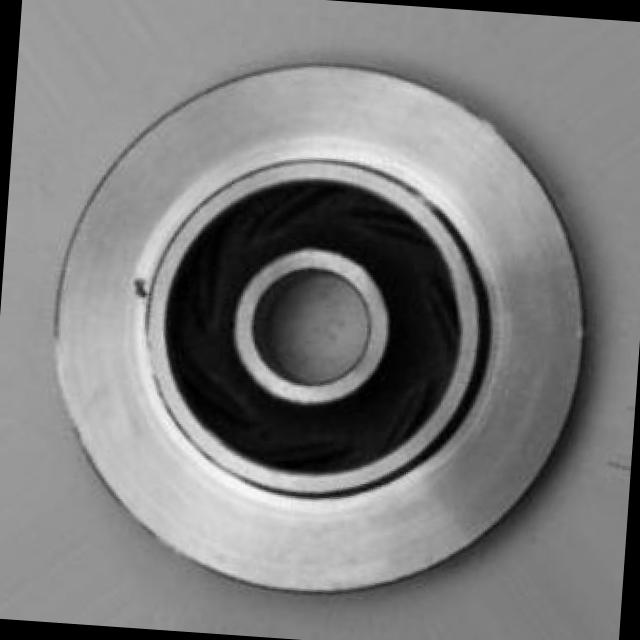Defect: (122, 270, 158, 309)
